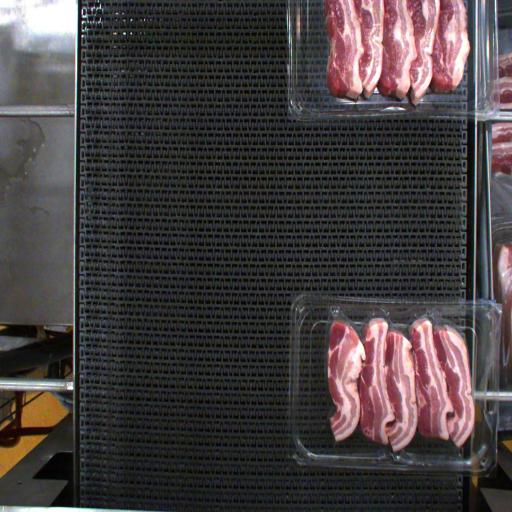unsealed: (329, 303, 475, 356)
